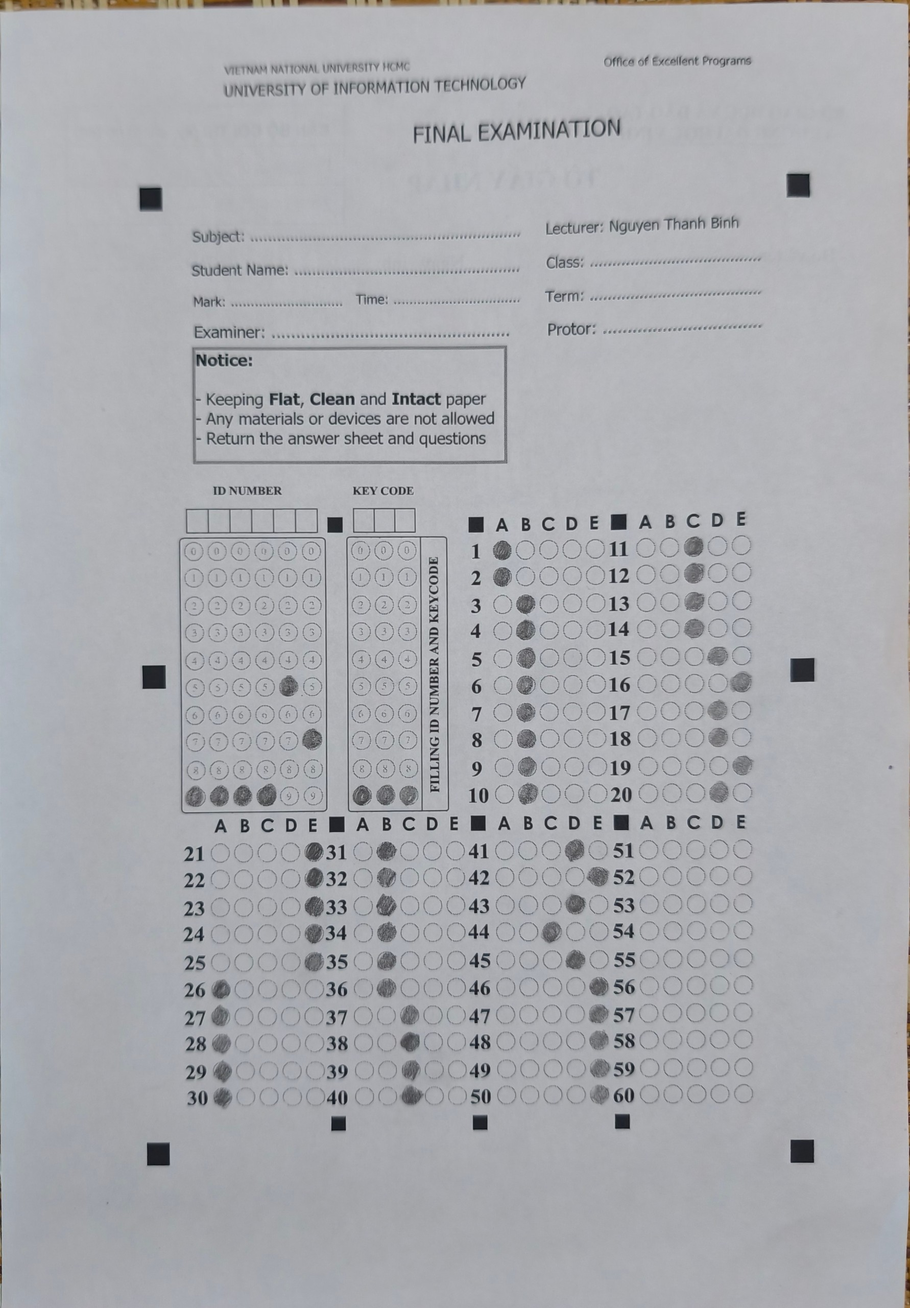info_region: (181, 539, 425, 811)
paper_region: (149, 194, 805, 1157)
q_1_20: (477, 520, 759, 826)
q_21_60: (181, 826, 759, 1125)
